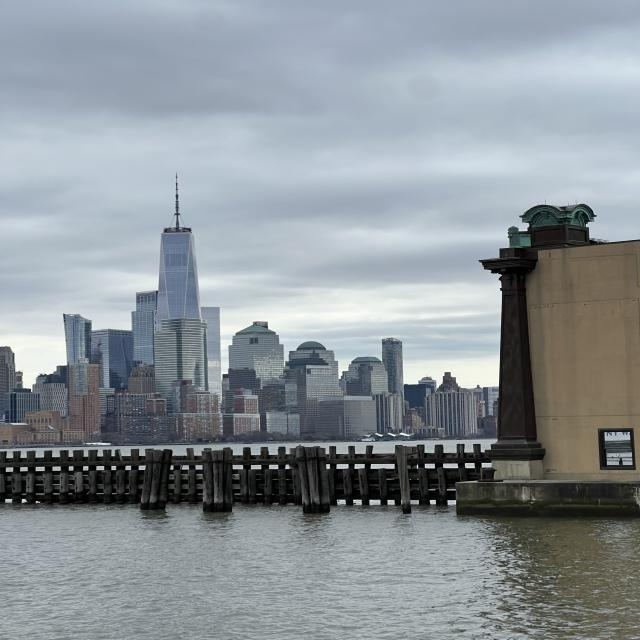WTC: (156, 171, 202, 320)
